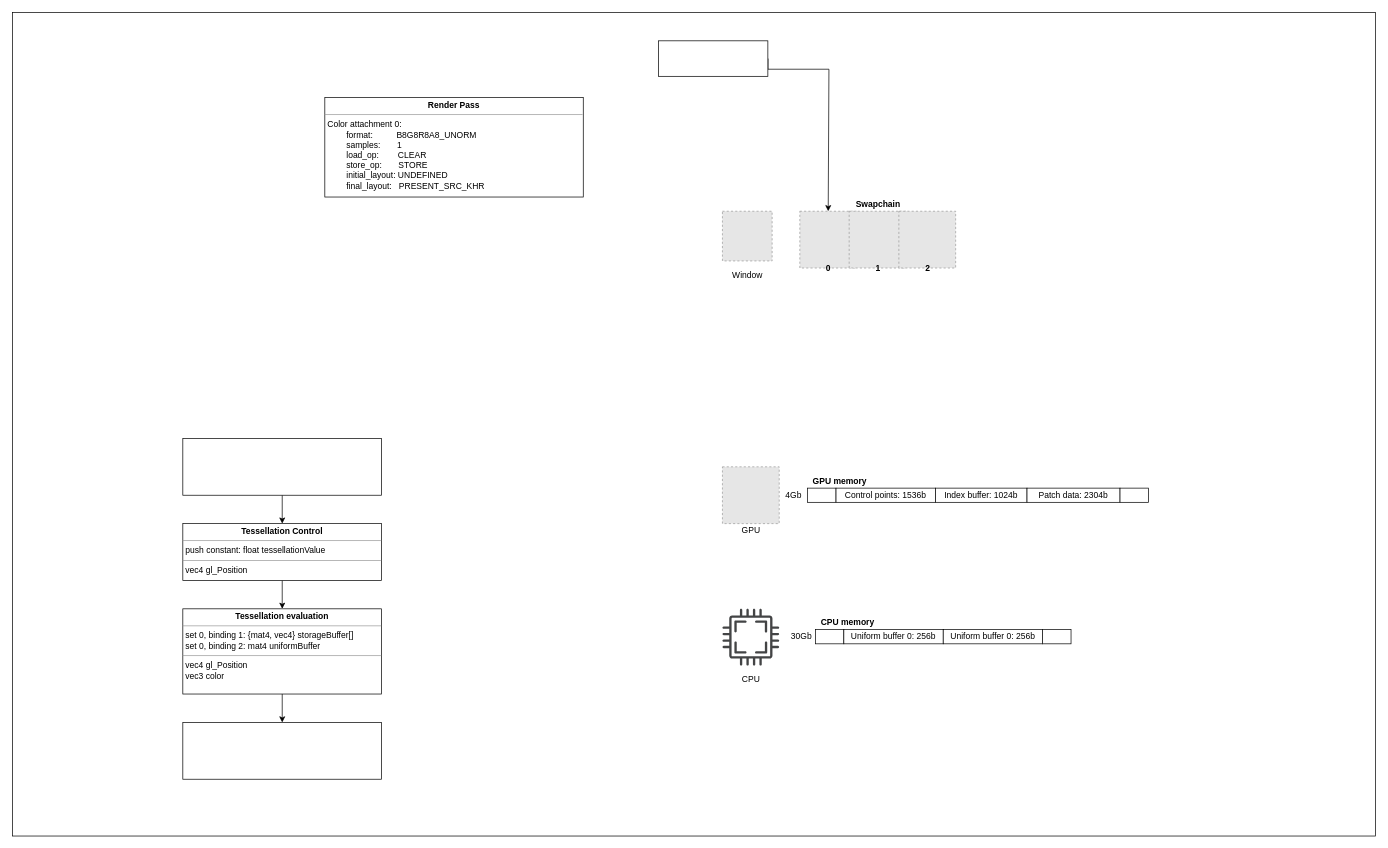
This 1388x848 diagram has some shape labels left out. Grey dashed boxes stand in for pictures. Here are the shapes that lost their labels. From the top down, the centre of each, then its label:
pixel 713 58: Framebuffer Color attachment 0
pixel 282 466: Vertex set 0, binding 0: {float, float, float} storageBuffer[] vec4 gl_Position
pixel 282 750: Fragment vec3 color vec4 color
